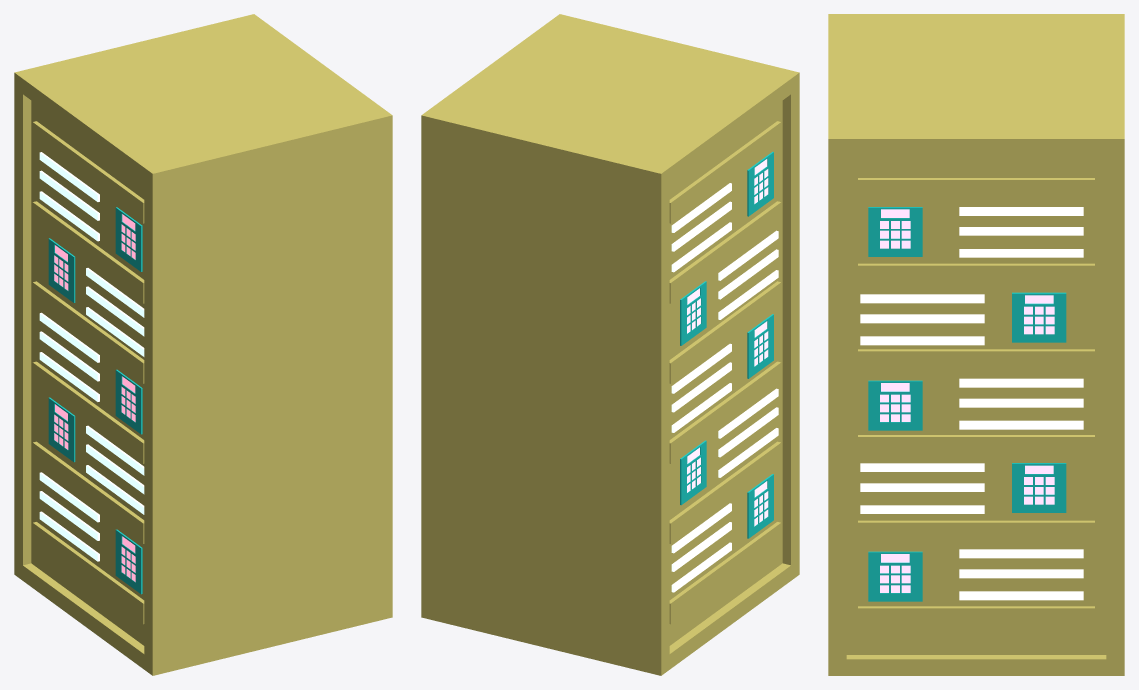
Rendered from DataCenter.fbx.
3 renders of one model, left to right at view 1: azimuth 30°, elevation 25°; view 2: azimuth 150°, elevation 25°; view 3: azimuth 270°, elevation 25°, orthographic. The views are drawn at different scales.
Visible parts, largest first — view 1: Cube, Bars, Computer; view 2: Cube, Bars, Computer; view 3: Cube, Bars, Computer.
Part boxes in pixels (left/top/right/bottom): Cube: left=14, top=14, right=392, bottom=675; Bars: left=39, top=152, right=144, bottom=561; Computer: left=48, top=207, right=142, bottom=594; Cube: left=421, top=14, right=799, bottom=675; Bars: left=671, top=183, right=778, bottom=592; Computer: left=680, top=151, right=773, bottom=538; Cube: left=828, top=14, right=1124, bottom=675; Bars: left=860, top=207, right=1083, bottom=600; Computer: left=868, top=207, right=1066, bottom=601.
Bounding box in the file's own units: 100 × 200 × 100.
